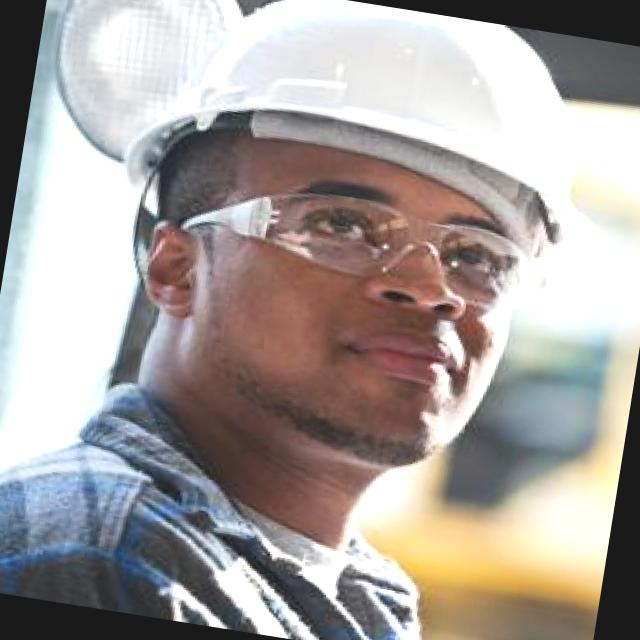goggles: (183, 165, 550, 322)
helmet: (107, 0, 640, 245)
